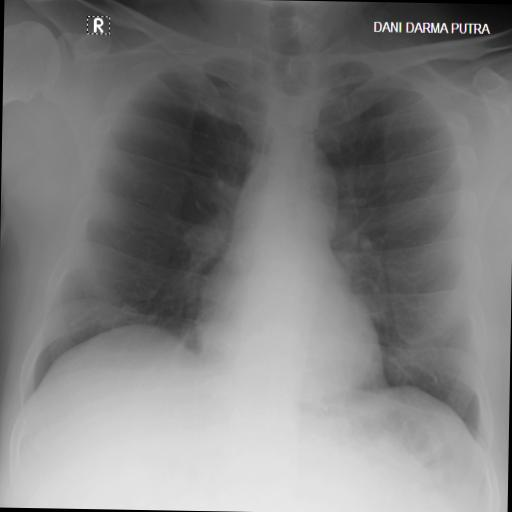normal: (8, 12, 509, 462)
